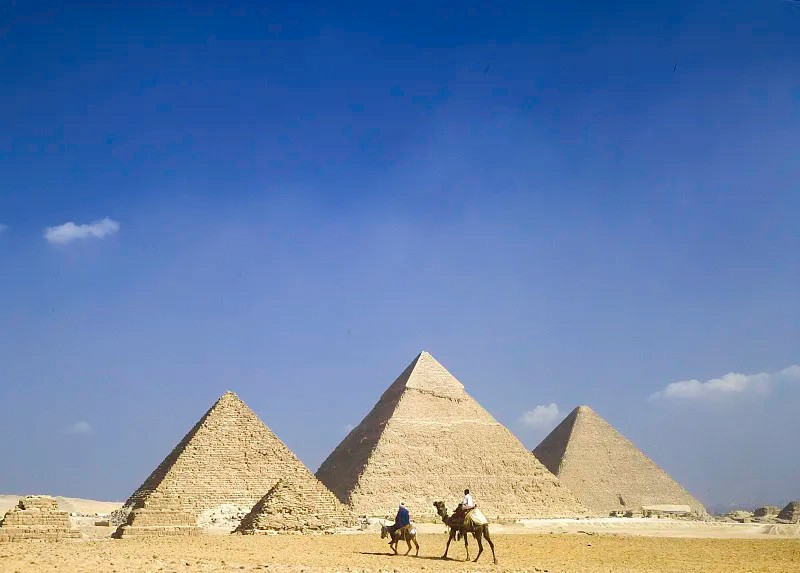Pyramid: (314, 352, 594, 519), (114, 390, 361, 529), (531, 404, 710, 517), (233, 477, 333, 533), (114, 493, 202, 538), (1, 496, 83, 539)
